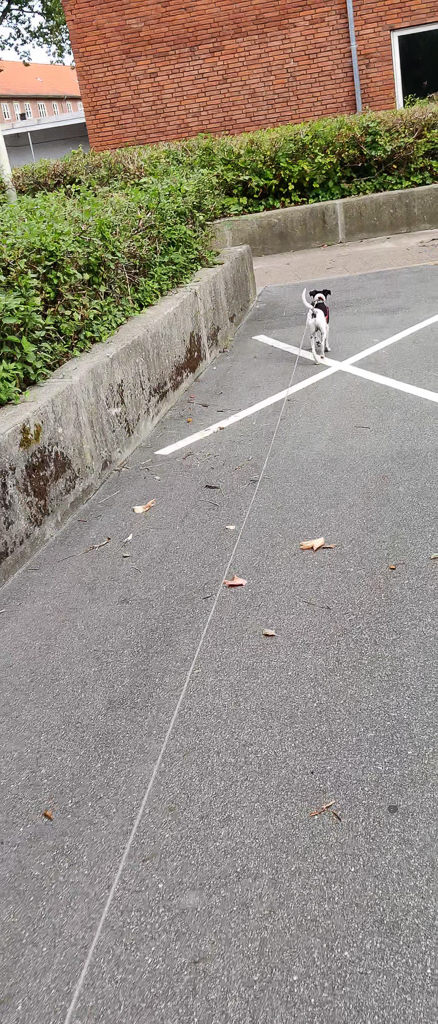Dog: (294, 282, 347, 370)
